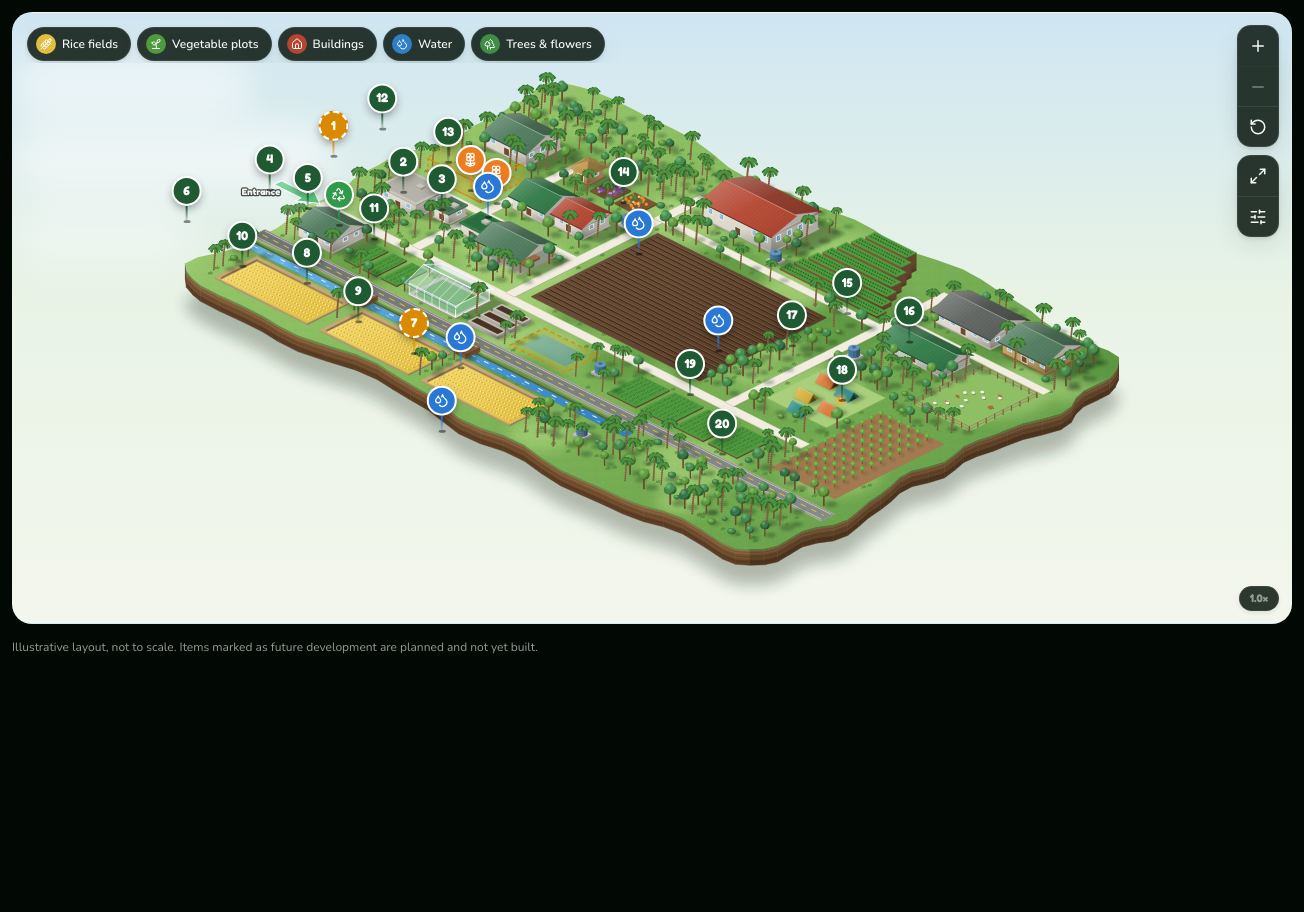
Test: LayuanFarmMap › shows a facility's details when its pin is chosen
Click the button "7" at (414, 332), box [399, 308, 429, 355]
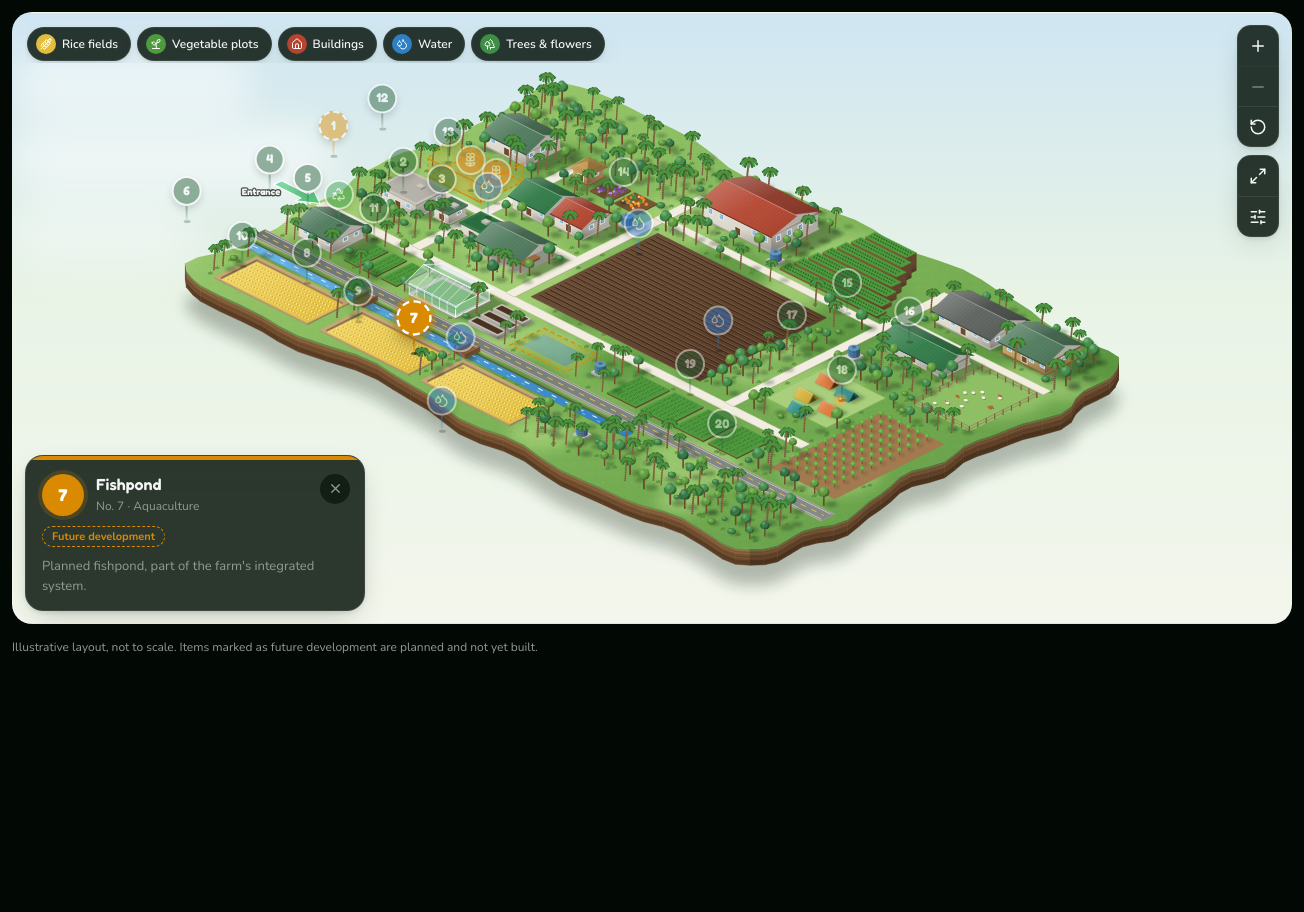
Expected: the text "Fishpond" is shown, [96, 474, 162, 494]
Expected: the text "Future development" is shown, [42, 526, 165, 547]
